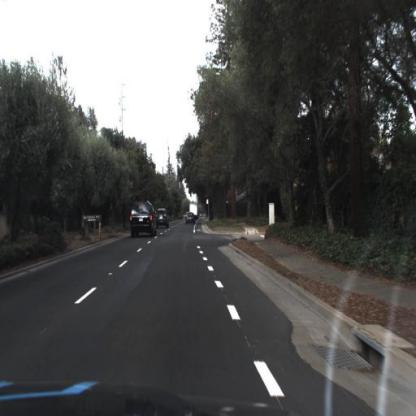car: (129, 200, 157, 242), (153, 208, 172, 231), (189, 202, 200, 219), (186, 212, 196, 226)
truck: (188, 200, 201, 226)
